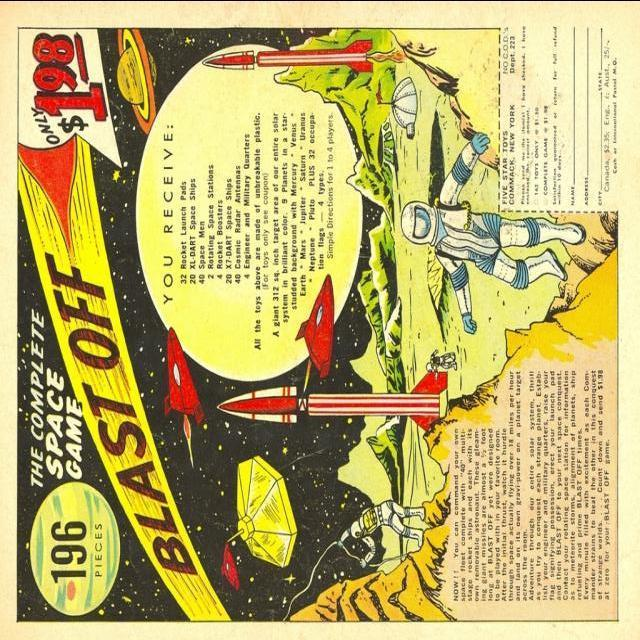Missile: (218, 380, 449, 428), (203, 39, 375, 74)
